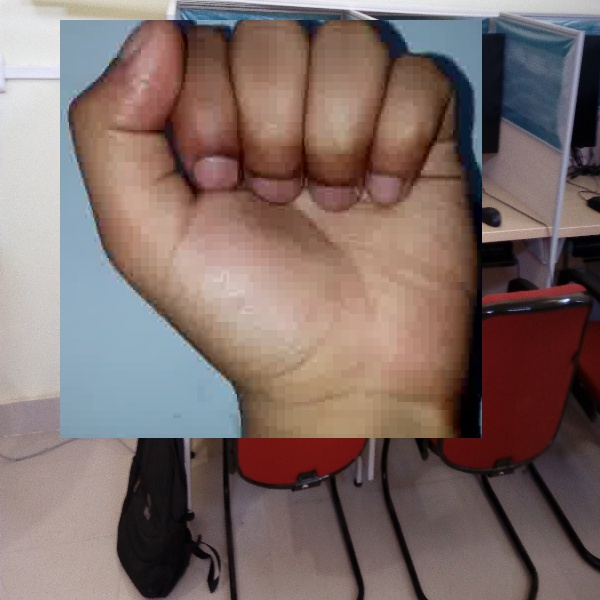A: (60, 20, 482, 438)
